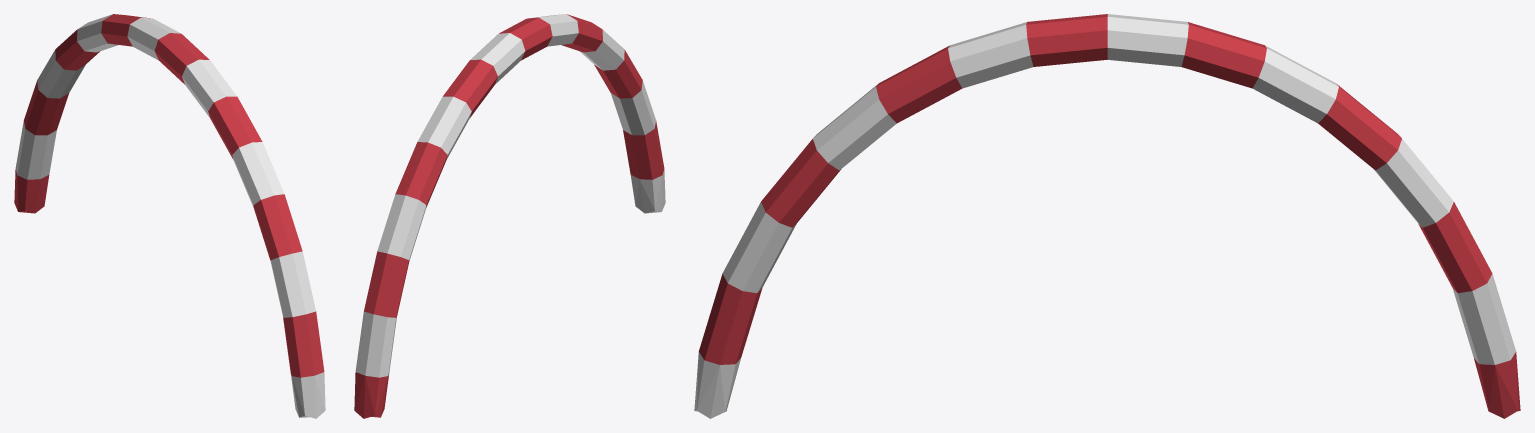
File: Gate2.dae
3 renders of one model, left to right at view 1: azimuth 30°, elevation 25°; view 2: azimuth 150°, elevation 25°; view 3: azimuth 270°, elevation 25°, orthographic. The views are drawn at different scales.
Visible parts, largest first — view 1: Gate; view 2: Gate; view 3: Gate.
Part boxes in pixels (bbox=[...]): Gate: bbox=[14, 14, 325, 418]; Gate: bbox=[354, 14, 665, 418]; Gate: bbox=[694, 14, 1520, 418].
Size of the model in its own units: 1.2 by 19.81 by 10.5.
